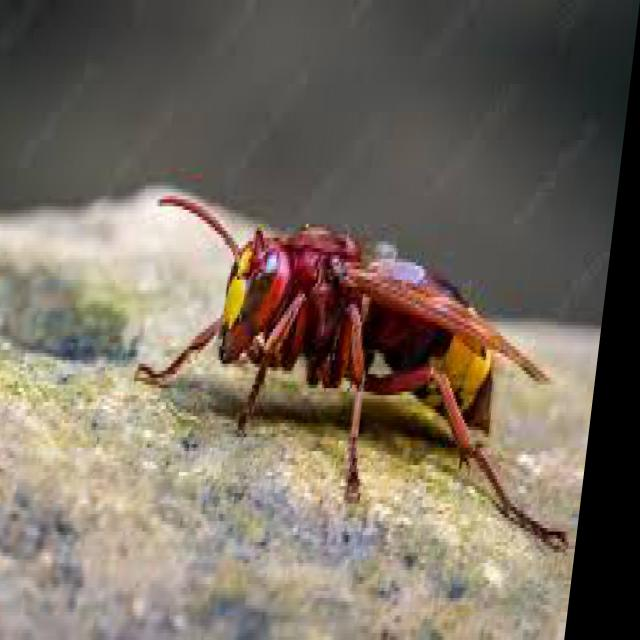Vespa Orientalis: (103, 154, 623, 587)
